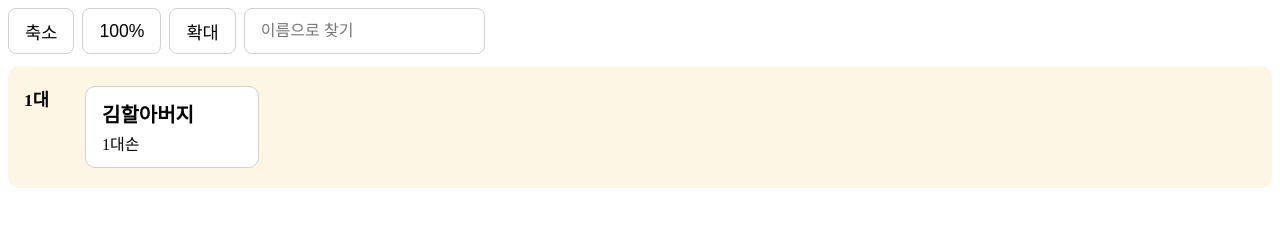
Test: TreeCanvas › 검색어와 일치하는 사람이 없으면 안내 문구를 보여주고 스크롤/하이라이트를 하지 않는다
In the search field with placeholder "이름으로 찾기": (364, 31) [244, 8, 485, 54], type "존재하지않는이름"
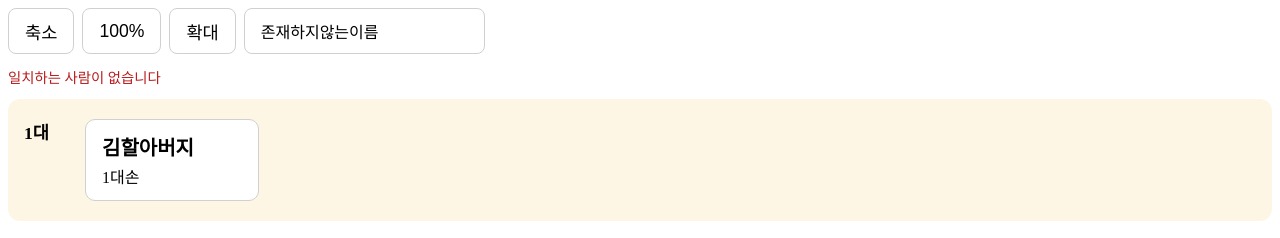
Expected: the text "일치하는 사람이 없습니다" is shown, [8, 70, 161, 86]
